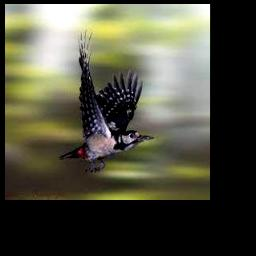Woodpecker: (59, 29, 154, 172)
